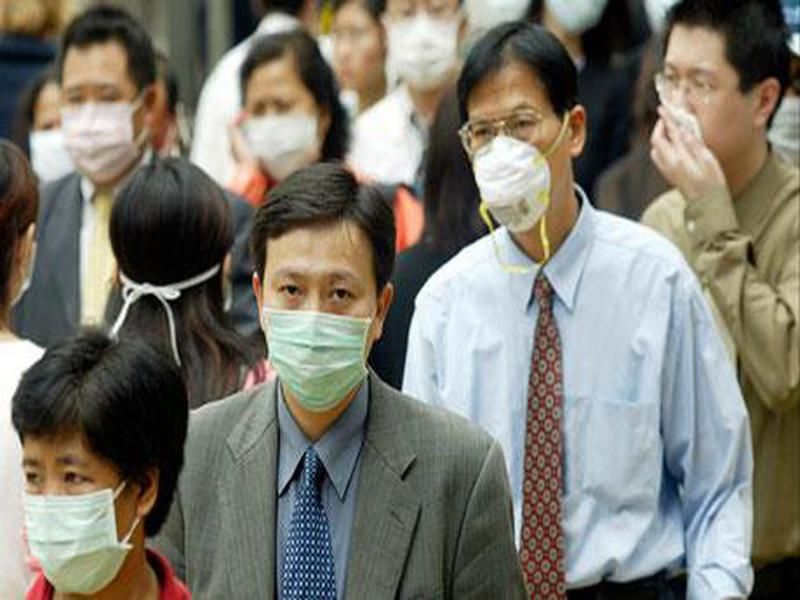with_mask: (9, 331, 186, 600), (456, 23, 589, 274), (646, 1, 791, 182), (260, 217, 378, 417), (55, 8, 169, 186), (240, 36, 340, 180), (383, 1, 468, 95)
without_mask: (336, 1, 389, 90)
